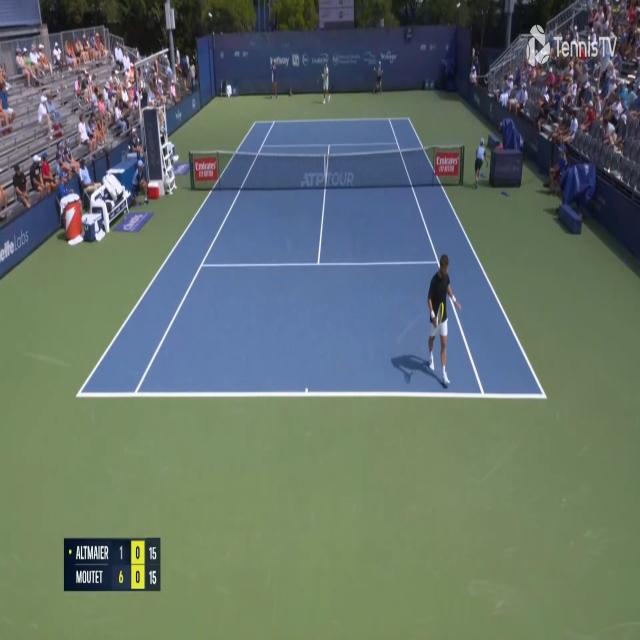tennis-player: (424, 250, 464, 389), (318, 62, 331, 105)
